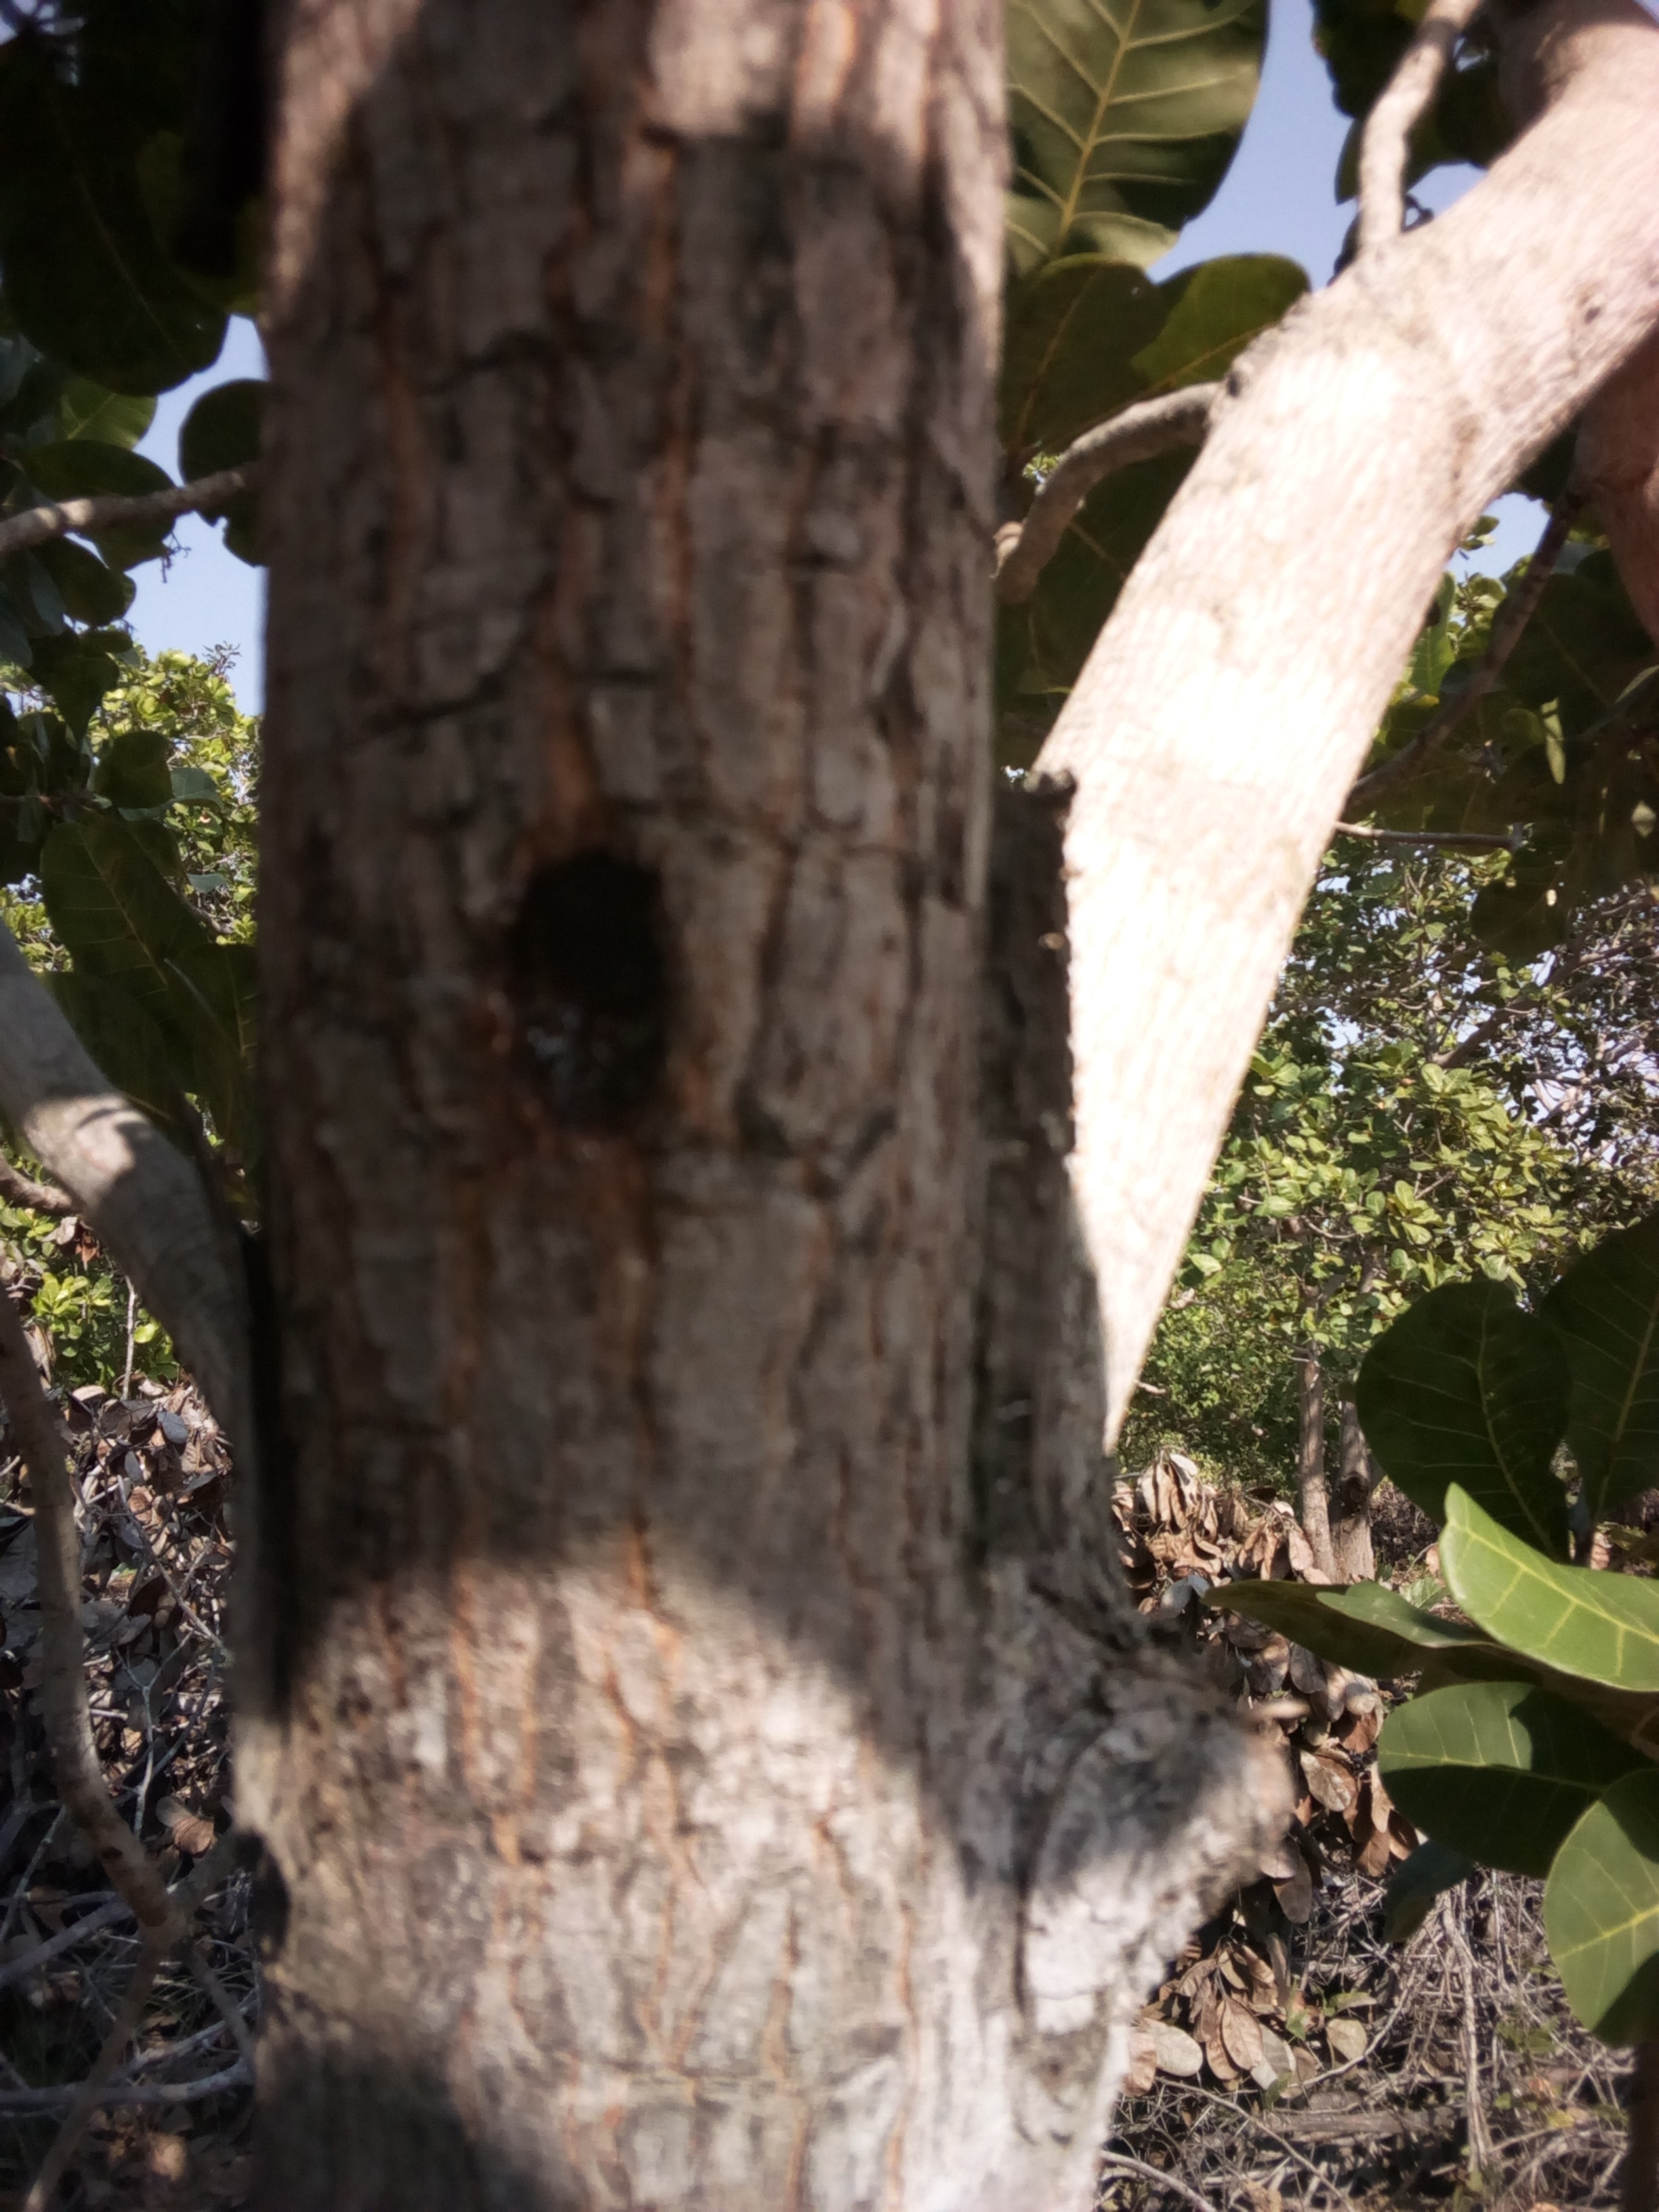Apate terebrans: (430, 780, 786, 1150)
